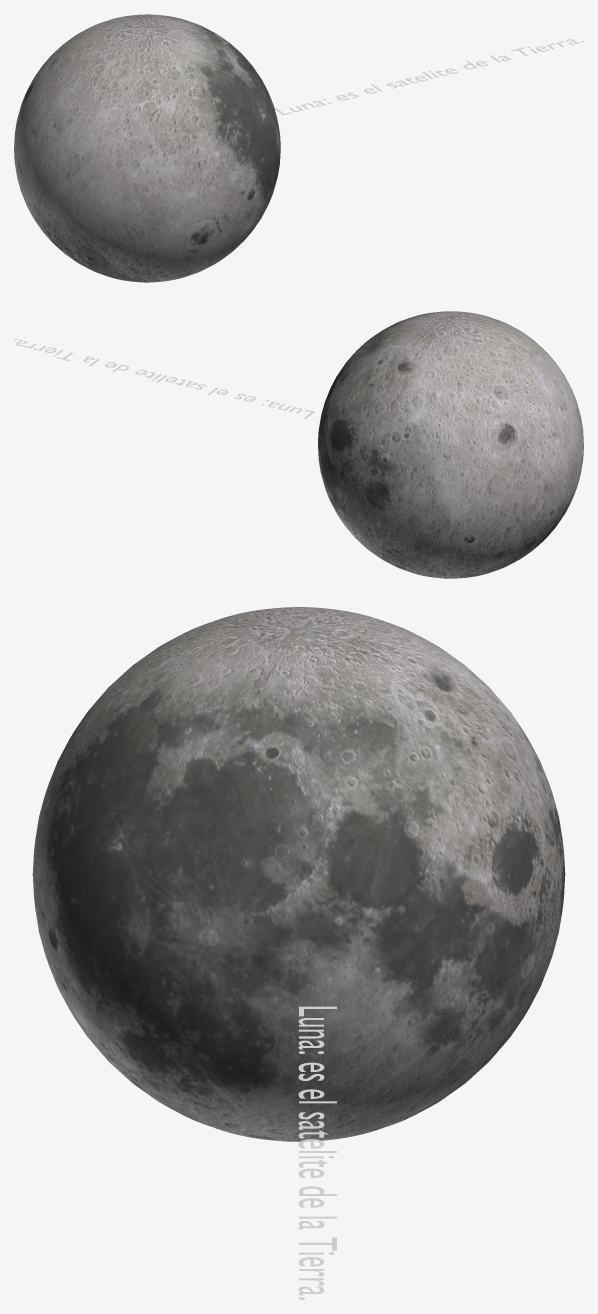
File: luna_by_miguel_antonio_hz_lechmk(1).glb
3 renders of one model, top to bottom at view 1: azimuth 30°, elevation 25°; view 2: azimuth 150°, elevation 25°; view 3: azimuth 270°, elevation 25°, orthographic. The views are drawn at different scales.
Parts seen in each view (by area): view 1: Sphere, Text; view 2: Sphere, Text; view 3: Sphere, Text.
Part boxes in pixels (box(x1,y1,x2,y2)): Sphere: box(14, 14, 280, 282); Text: box(274, 39, 583, 115); Sphere: box(318, 311, 583, 578); Text: box(14, 338, 314, 418); Sphere: box(32, 607, 565, 1141); Text: box(298, 1006, 336, 1299).
Size of the model in its own units: 22.92 by 9.69 by 9.59.
Materials: 1 (1 with a texture image).
